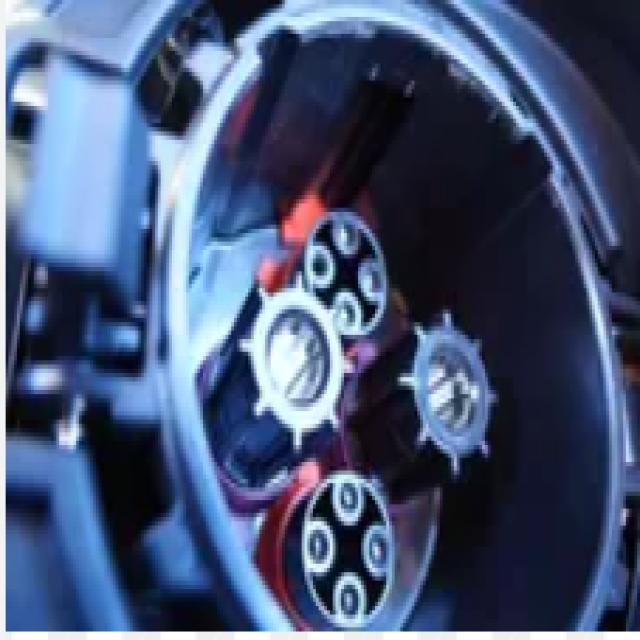CHAdeMO: (192, 135, 565, 635)
